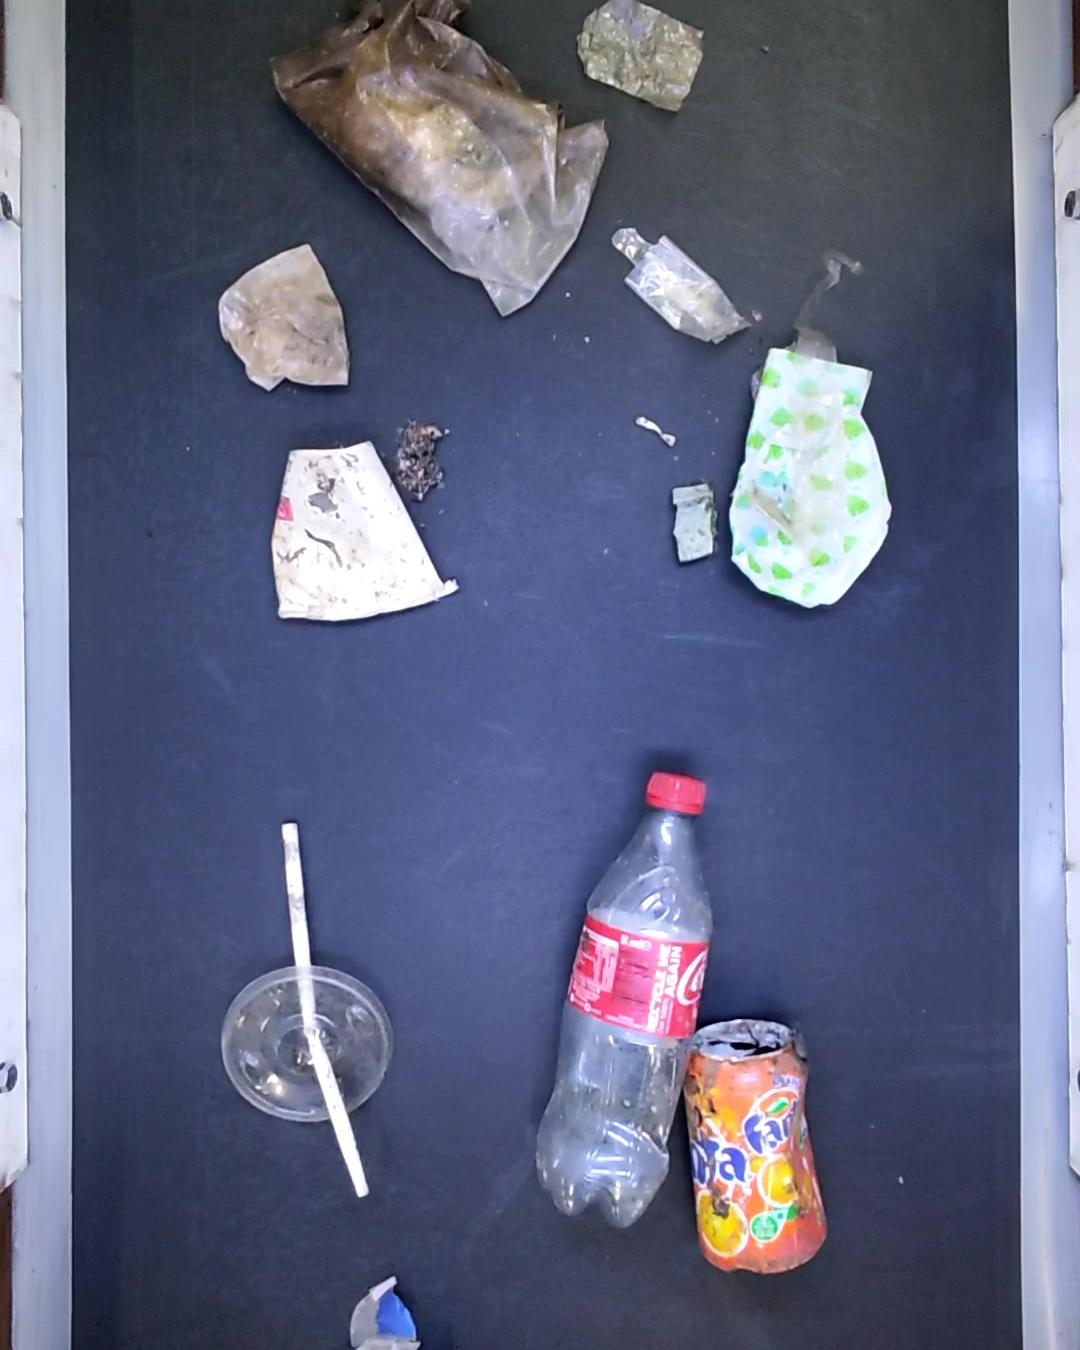Drankblikjes: (678, 1018, 831, 1276)
Drankflessen - 1-2 liter: (529, 765, 714, 1229)
Plastic folies of stukken daarvan 2.5- 50 cm: (266, 0, 609, 321), (215, 245, 352, 390), (606, 222, 752, 347)
